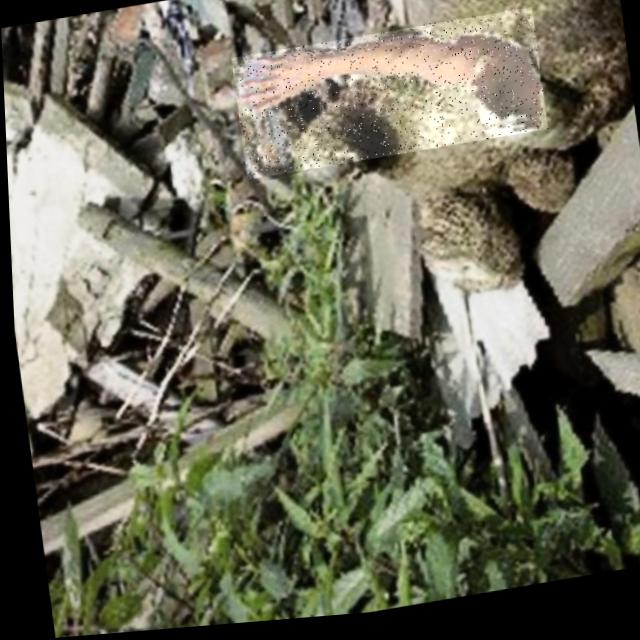Person in Rubble: (229, 12, 547, 182)
